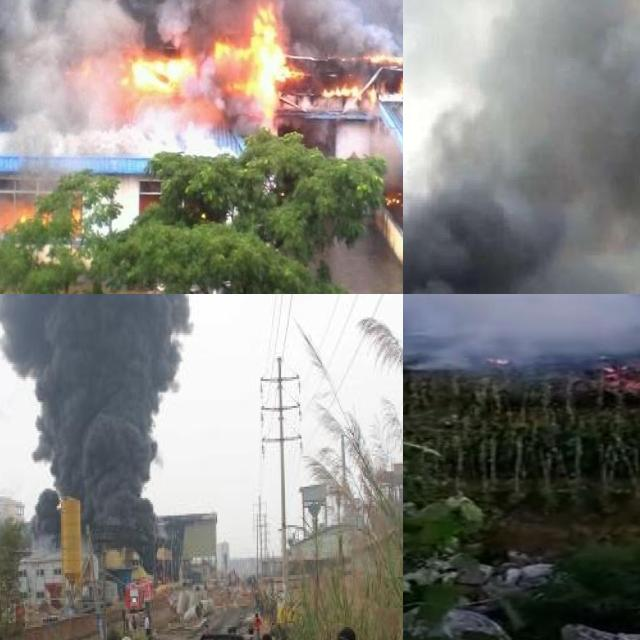fire: (210, 1, 294, 125), (315, 56, 403, 103), (120, 45, 194, 96), (593, 343, 640, 386)
smoke: (403, 0, 640, 294), (0, 0, 403, 144), (0, 294, 199, 534), (403, 294, 640, 365)
